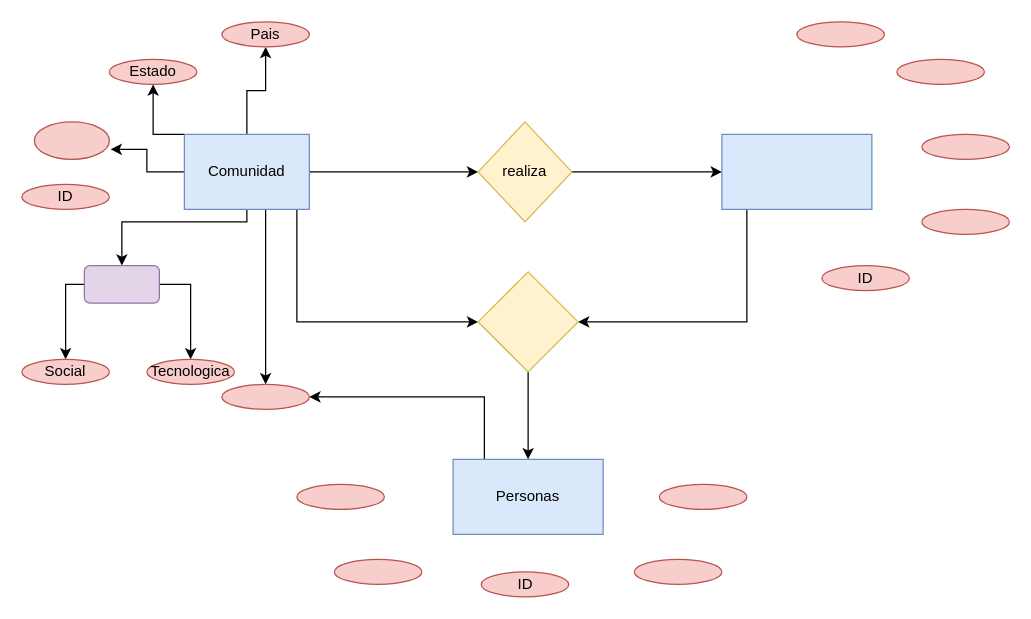
Image size: 1031x619. Some labels were removed from this diagram. Each missing label, with the centre of its shape:
"Eventos" goes at [796,171].
"Nombre" goes at [265,396].
"Redes Sociales" goes at [71,140].
"tienen" goes at [527,321].
"tipo" goes at [121,283].
